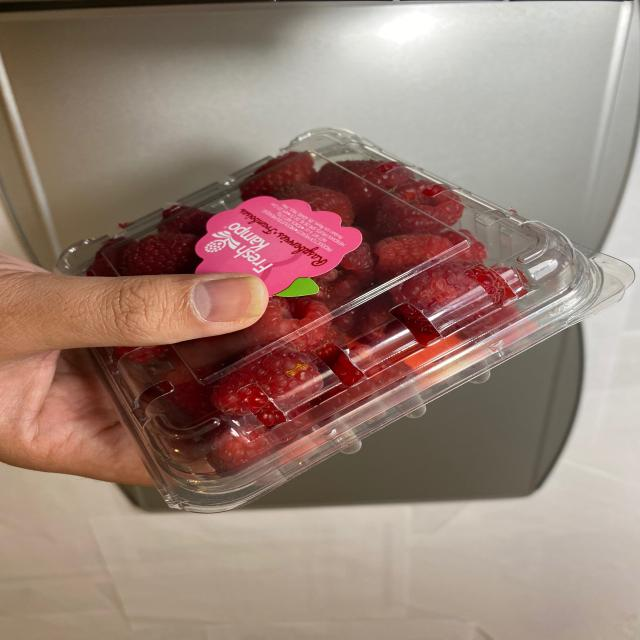raspberries: (119, 156, 544, 477)
